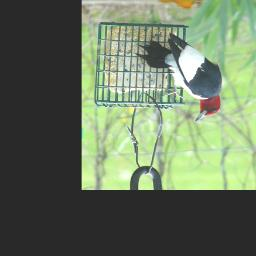Woodpecker: (135, 33, 222, 122)
